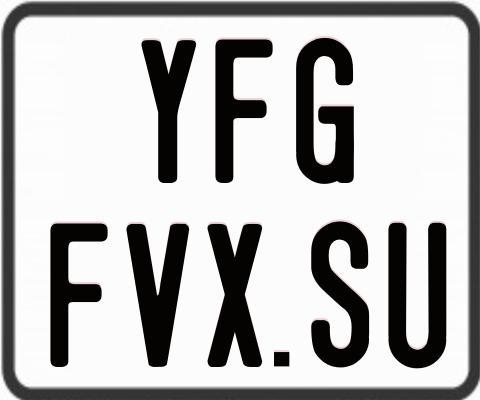F: (47, 223, 111, 370), (212, 39, 273, 189)
G: (296, 36, 356, 182)
S: (310, 220, 368, 368)
U: (388, 222, 451, 371)
V: (123, 222, 187, 369)
X: (205, 221, 261, 370)
Y: (138, 39, 195, 187)
